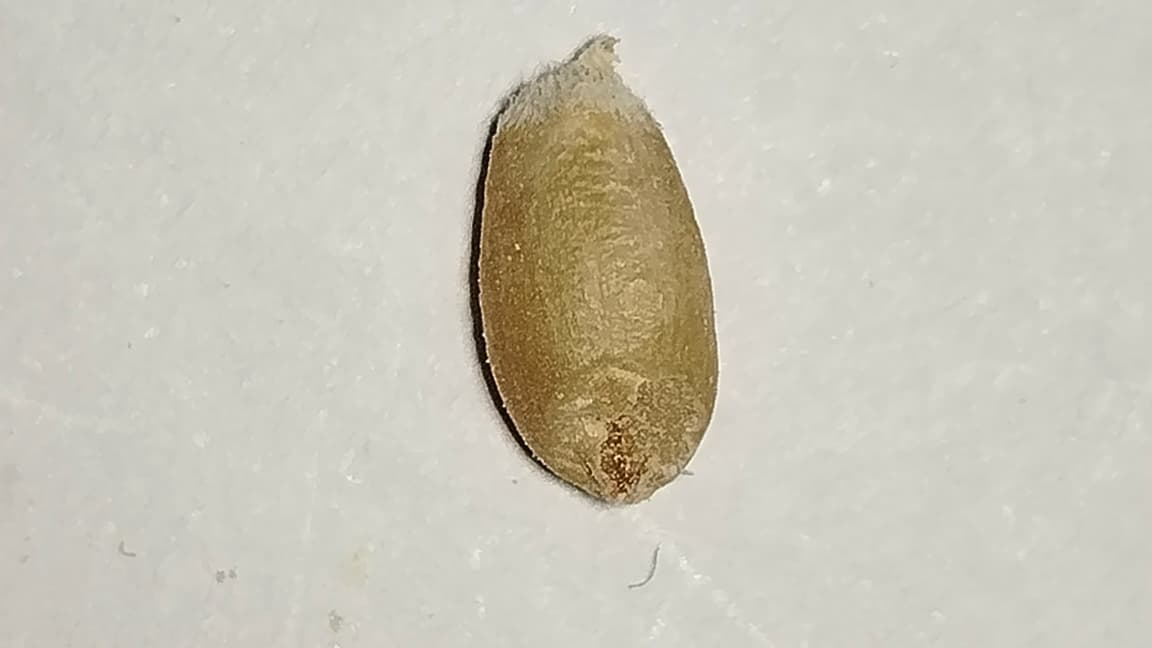damage: (479, 36, 718, 502)
insectdamage: (565, 366, 709, 503)
molddamage: (495, 33, 637, 131)
